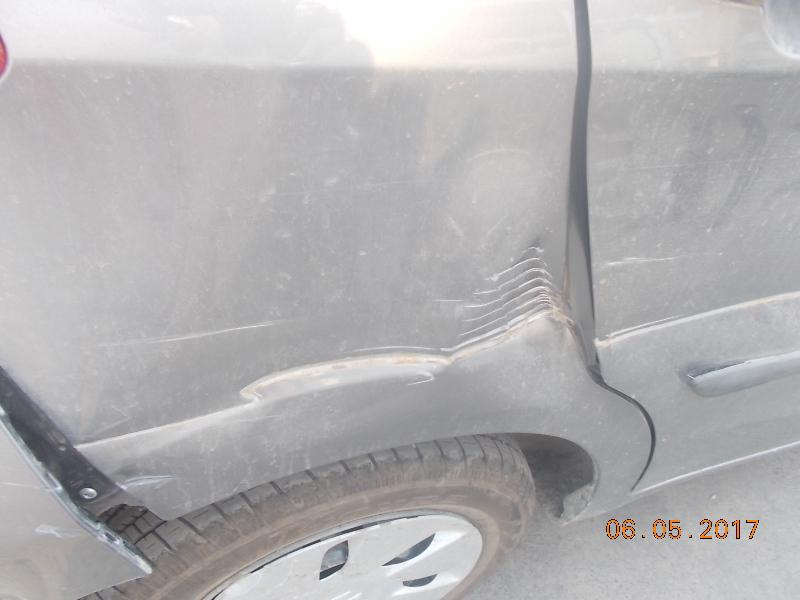quaterpanel-dent: (42, 138, 590, 594)
